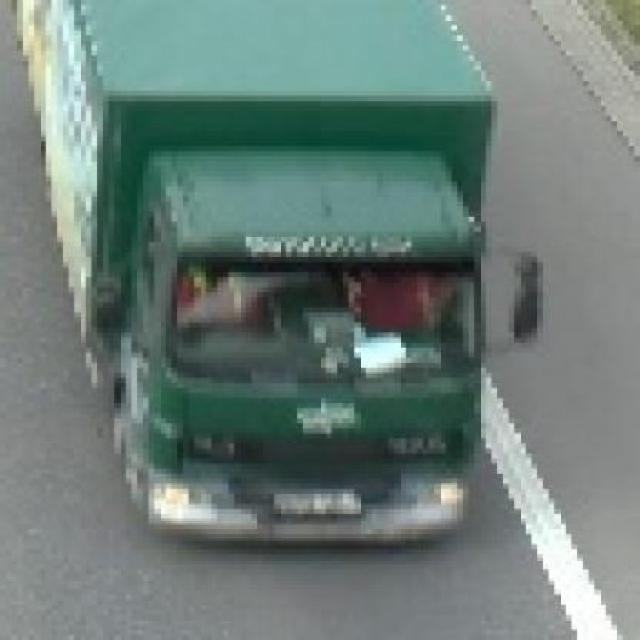truck: (18, 1, 538, 555)
